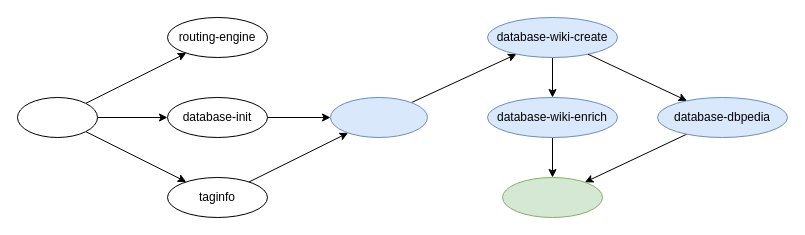
The diagram is 805 pixels wide and 235 high, and some of its shapes have lost their labels. Each missing label, with the box of its shape:
advice: (502, 176, 602, 218)
database-osm: (330, 96, 428, 138)
init: (16, 96, 98, 138)
